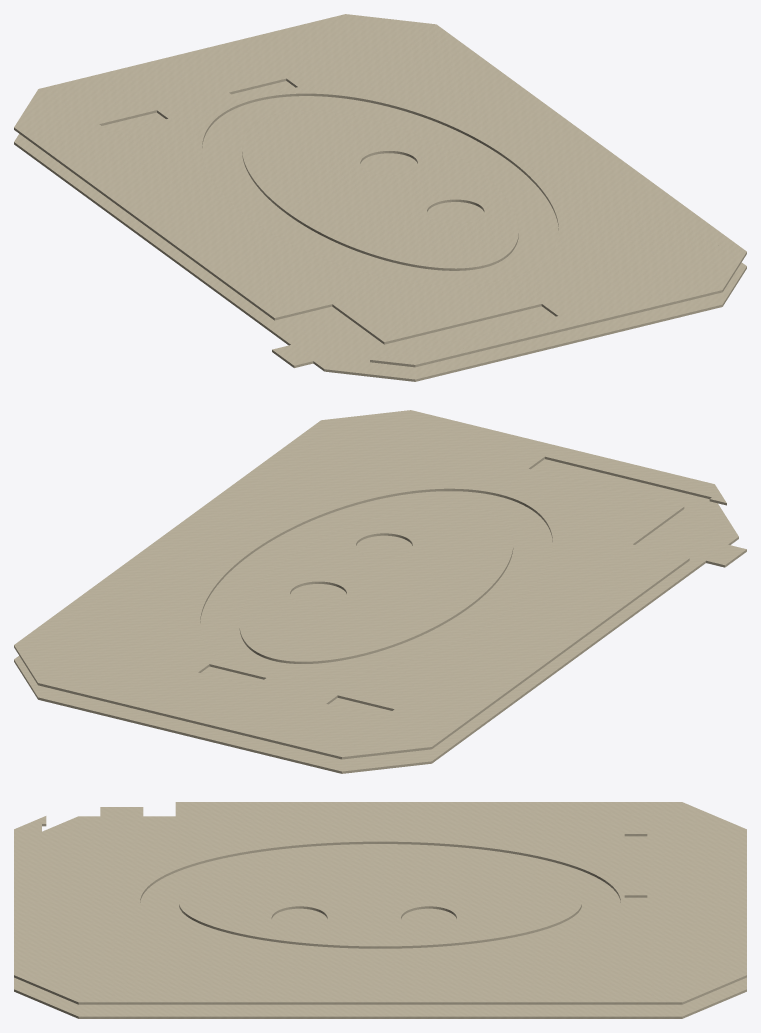
Rendered from AQD_floor_proposals.glb.
3 views of the same model, one above another, from view 1: azimuth 30°, elevation 25°; view 2: azimuth 150°, elevation 25°; view 3: azimuth 270°, elevation 25° (orthographic). The views are drawn at different scales.
Parts seen in each view (by area): view 1: AQD__AQD_annex_wet_promenade.001, AQD__AQD_annex_substrate.001, AQD__AQD_island_terrace.001; view 2: AQD__AQD_annex_wet_promenade.001, AQD__AQD_annex_substrate.001, AQD__AQD_island_terrace.001; view 3: AQD__AQD_annex_wet_promenade.001, AQD__AQD_annex_substrate.001, AQD__AQD_island_terrace.001, AQD__AQD_public_connection_tongue.001.
Part boxes in pixels (x1=…): AQD__AQD_annex_wet_promenade.001: x1=14, y1=14, x2=746, y2=367; AQD__AQD_annex_substrate.001: x1=14, y1=81, x2=746, y2=381; AQD__AQD_island_terrace.001: x1=242, y1=110, x2=518, y2=270; AQD__AQD_annex_wet_promenade.001: x1=14, y1=410, x2=726, y2=759; AQD__AQD_annex_substrate.001: x1=14, y1=459, x2=738, y2=773; AQD__AQD_island_terrace.001: x1=239, y1=505, x2=513, y2=663; AQD__AQD_annex_wet_promenade.001: x1=14, y1=802, x2=746, y2=1004; AQD__AQD_annex_substrate.001: x1=14, y1=816, x2=746, y2=1018; AQD__AQD_island_terrace.001: x1=179, y1=858, x2=581, y2=948; AQD__AQD_public_connection_tongue.001: x1=100, y1=807, x2=143, y2=816.
Bounding box in the file's own units: 46 × 1.69 × 68.
1 material, 1 textured.
